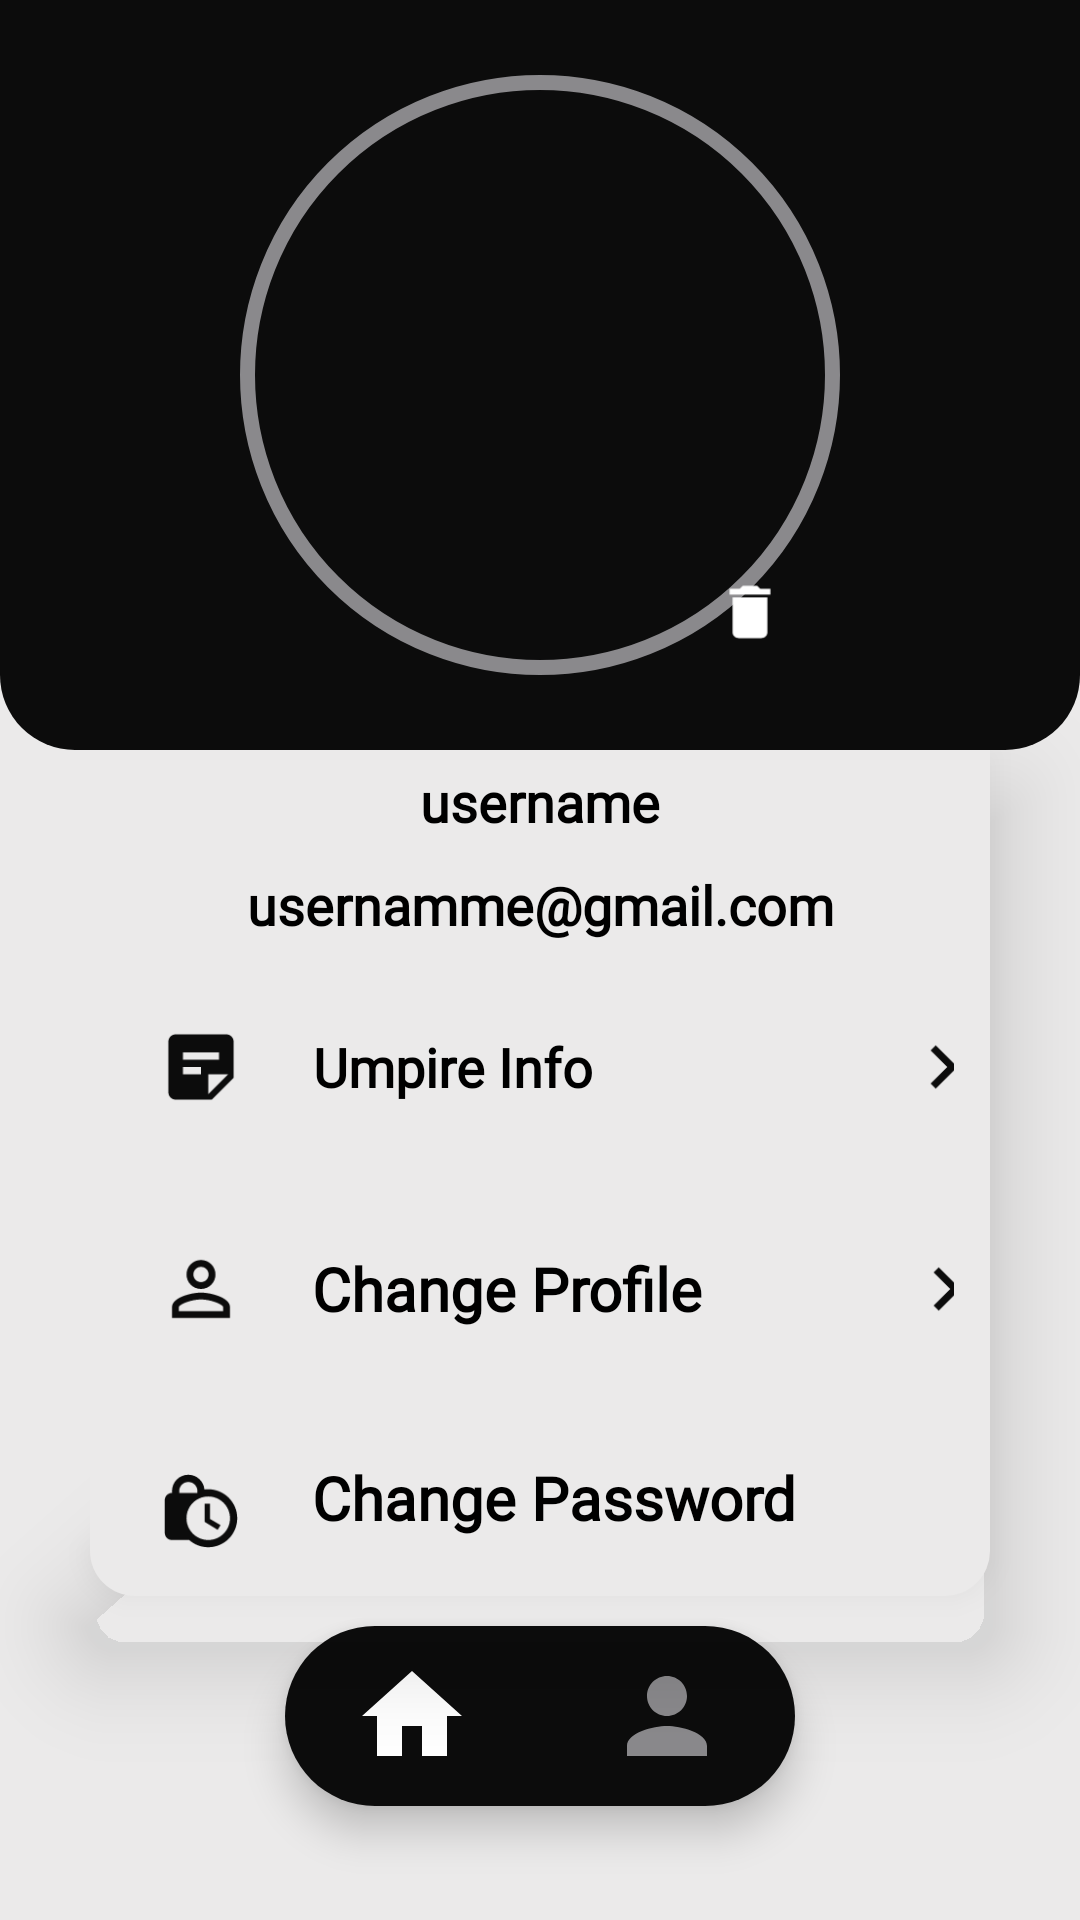

Icons on this 1080×1920 Android screen, each with the point to tap as point (x, y):
changepasword: point (201, 1511)
